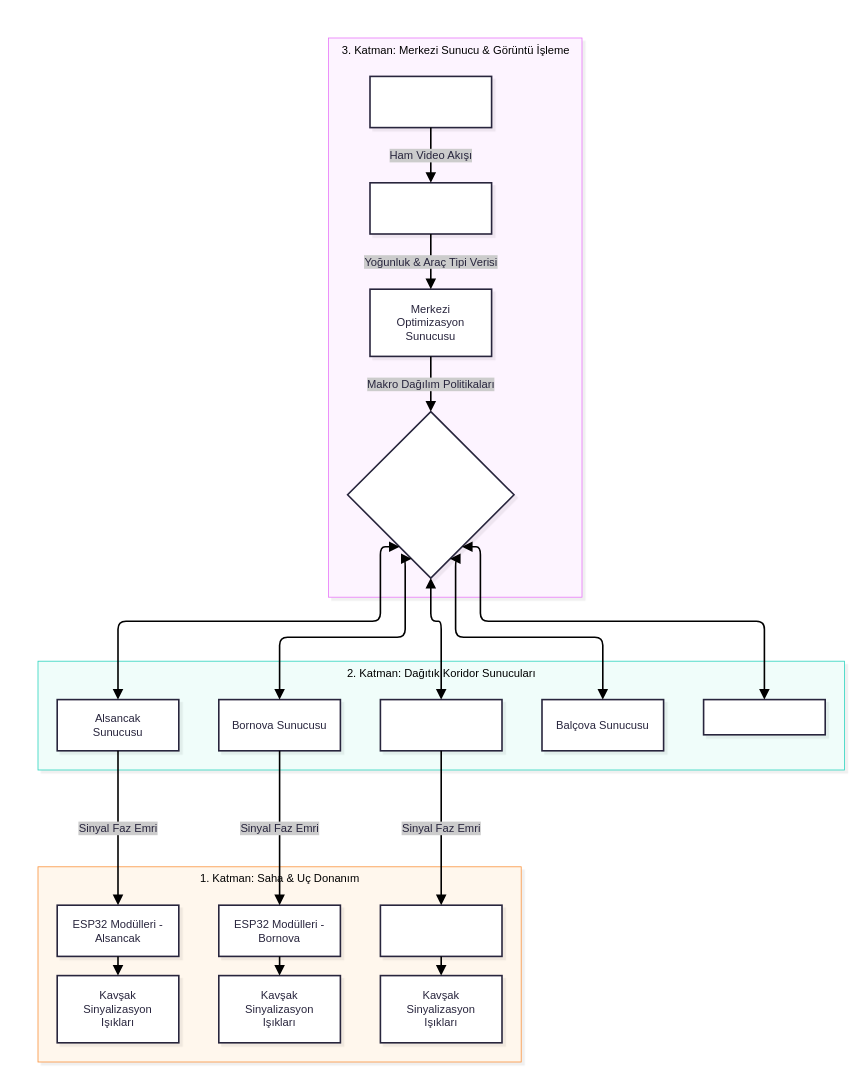
Image size: 862x1079. Some labels were removed from this diagram. Here are the shapes that lost their labels. From the top down, the centre of each, then its label:
[432,103]: İzmir MOBESE / Harici Kameralar
[432,210]: YOLO / Vision AI Modülü
[432,496]: Koridor Koordinasyonu
[442,726]: Karşıyaka Sunucusu
[765,718]: Buca Sunucusu
[442,932]: ESP32 Modülleri - Karşıyaka
